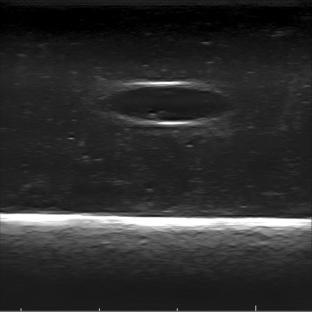vessel: (109, 82, 233, 128)
